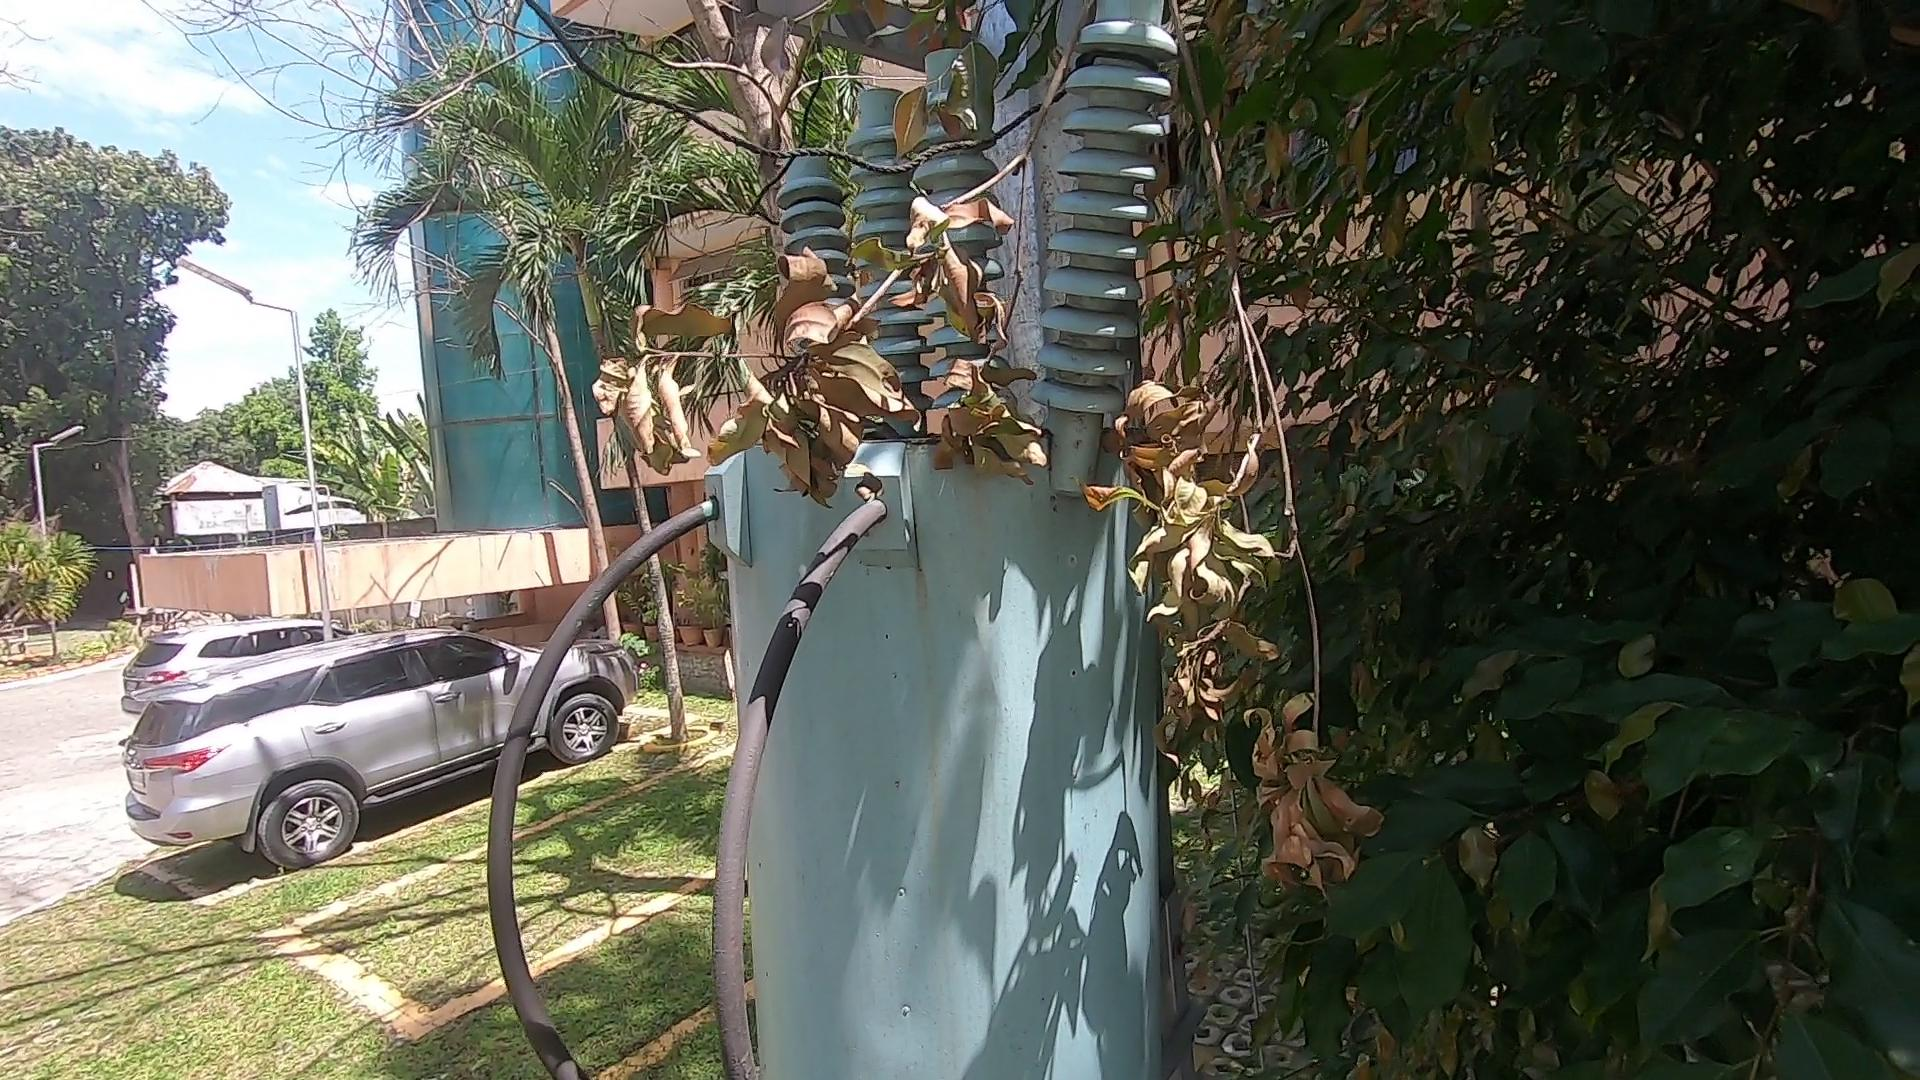branch with leaves: (1118, 1, 1423, 957), (575, 1, 1104, 527)
